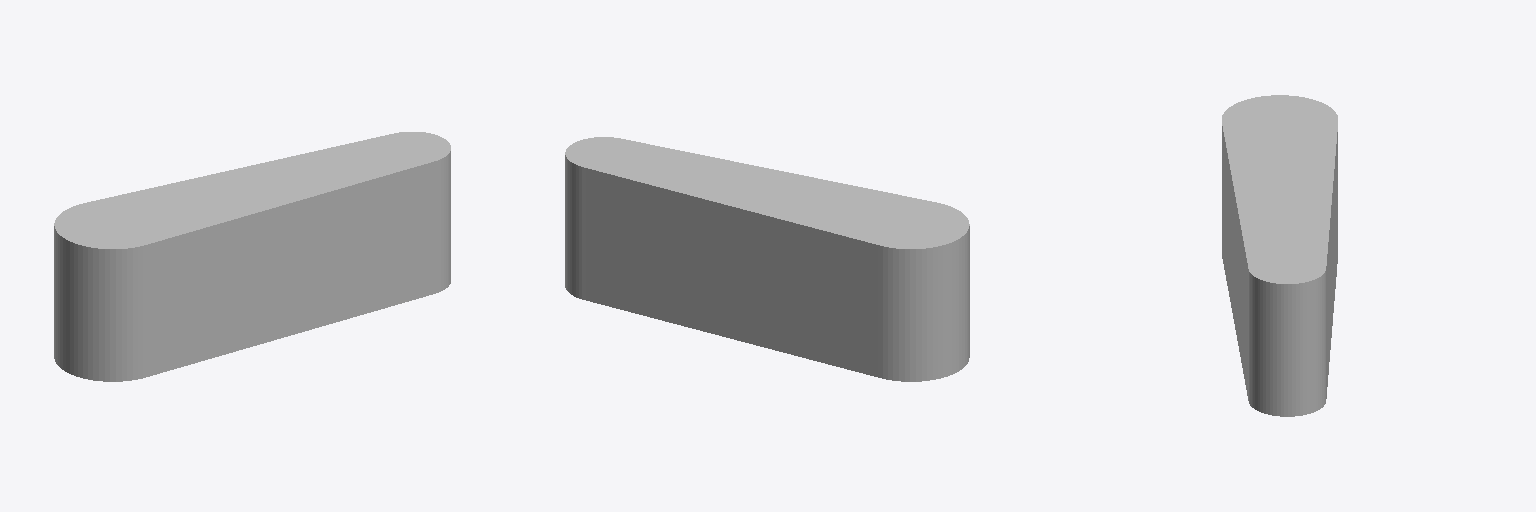
The model's file is paddleLeftCollider.obj.
3 renders of one model, left to right at view 1: azimuth 30°, elevation 25°; view 2: azimuth 150°, elevation 25°; view 3: azimuth 270°, elevation 25°, orthographic.
Visible parts, largest first — view 1: PaddleLeft.004_Cylinder.049; view 2: PaddleLeft.004_Cylinder.049; view 3: PaddleLeft.004_Cylinder.049.
Part boxes in pixels (bbox=[...]): PaddleLeft.004_Cylinder.049: bbox=[54, 132, 450, 381]; PaddleLeft.004_Cylinder.049: bbox=[565, 137, 969, 381]; PaddleLeft.004_Cylinder.049: bbox=[1222, 95, 1337, 416].
Size of the model in its own units: 3.06 by 1 by 0.7998.